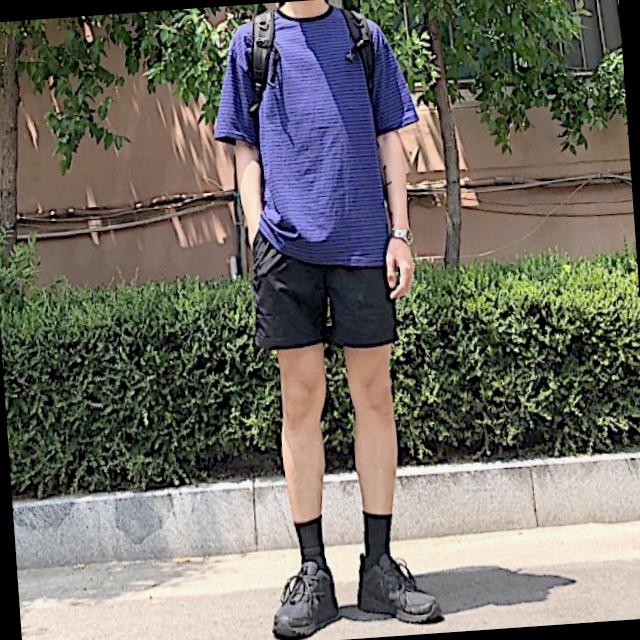shortpants: (242, 216, 400, 356)
shortsleeve: (211, 0, 430, 281)
